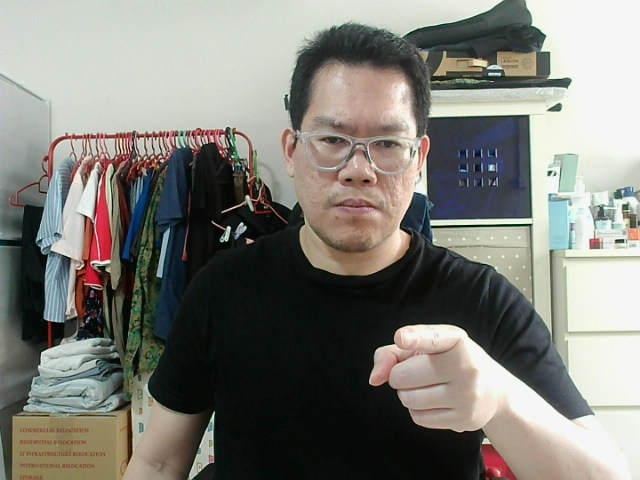you: (375, 332, 503, 418)
